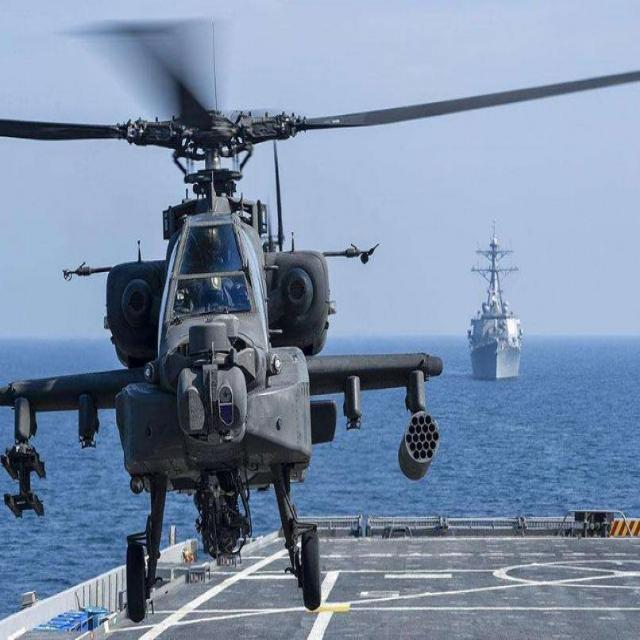MIL_HELO: (0, 18, 629, 618)
